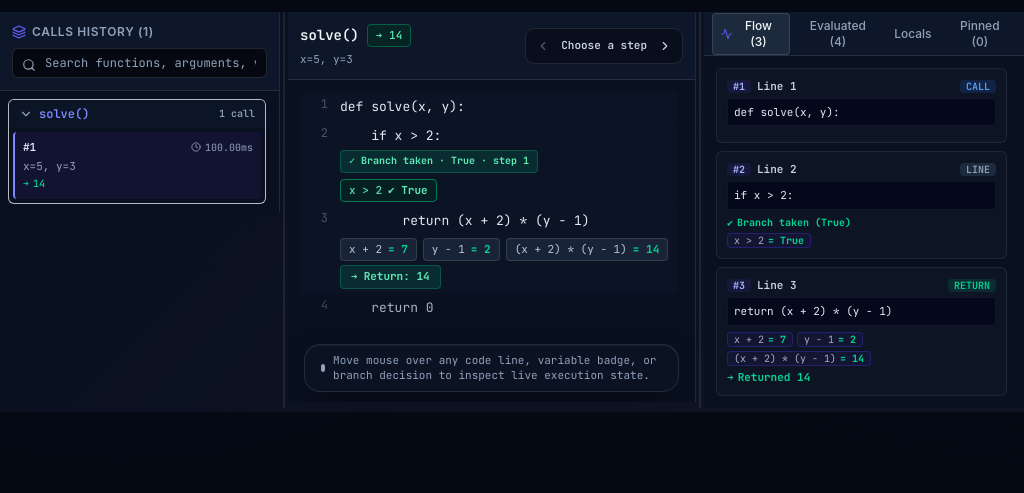
BirdseyePage Component › shows a variable value and snapshot provenance on keyboard focus
Click the button "Locals": coordinates (913, 34) 886,22 -> 940,46
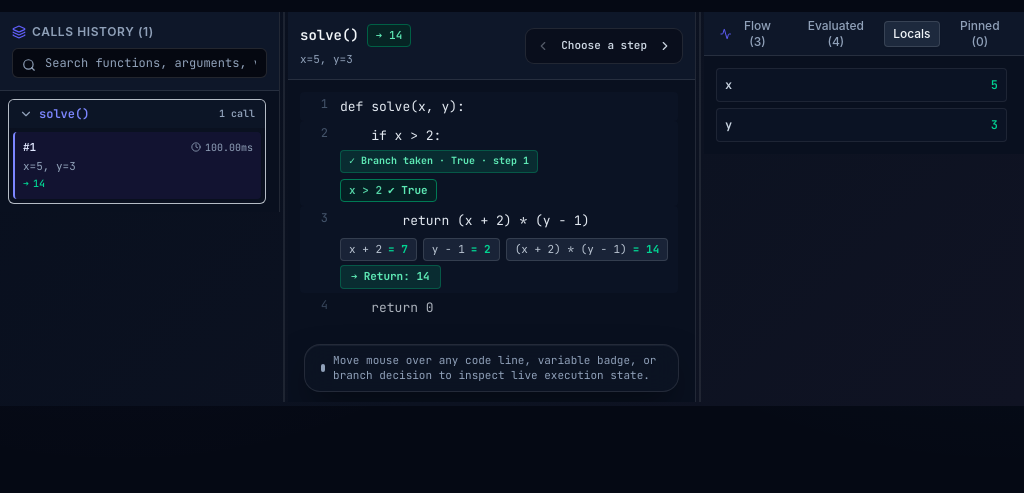
Focus the button "x": coordinates (729, 85) 725,77 -> 732,93
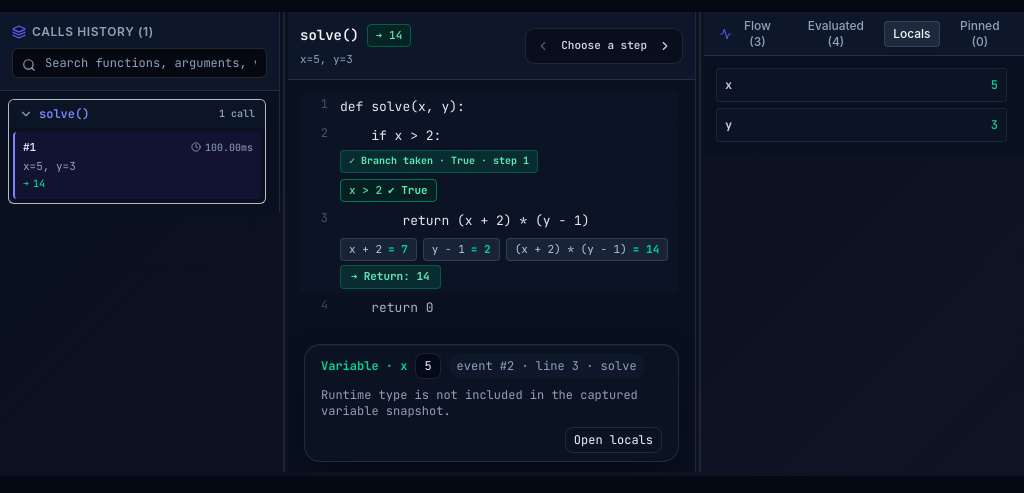
Expected: the text "Variable · x" is shown, 321,358 -> 407,374
Expected: the text "5" in the row of "Variable ·" is shown, 424,358 -> 432,374
Expected: the text "Runtime type is not included" is shown, 321,387 -> 638,419
